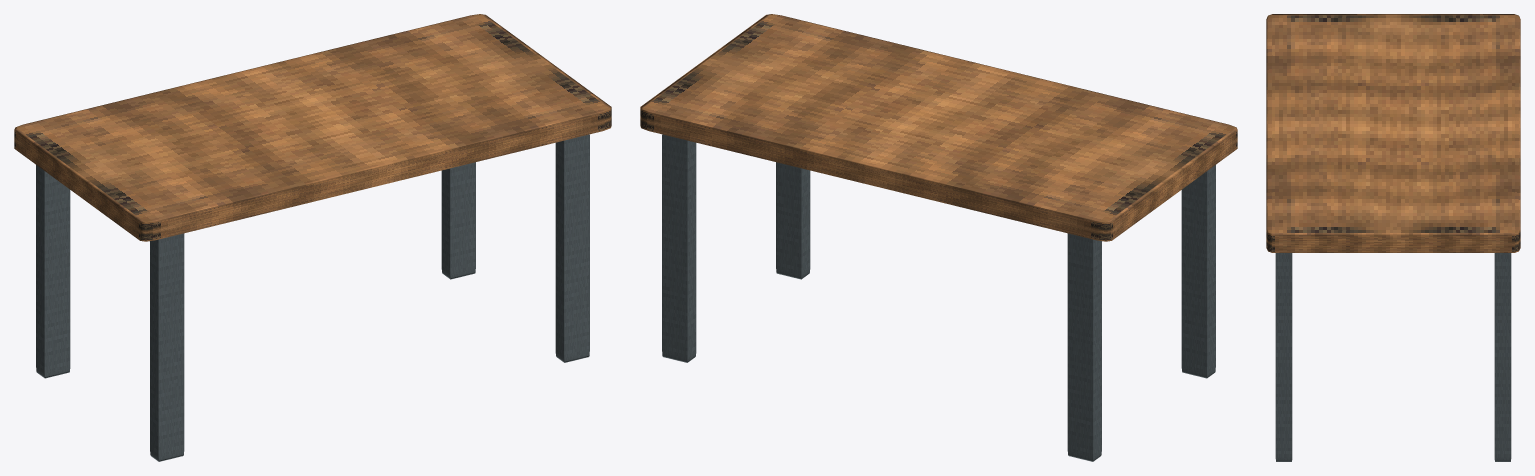
Rendered from desk.glb.
3 renders of one model, left to right at view 1: azimuth 30°, elevation 25°; view 2: azimuth 150°, elevation 25°; view 3: azimuth 270°, elevation 25°, orthographic. The views are drawn at different scales.
Parts seen in each view (by area): view 1: top, leg (×4); view 2: top, leg (×4); view 3: top, leg (×2).
Part boxes in pixels (x1=…): top: x1=14, y1=14, x2=611, y2=241; leg (×4): x1=36, y1=134, x2=589, y2=461; top: x1=640, y1=14, x2=1237, y2=241; leg (×4): x1=662, y1=134, x2=1215, y2=461; top: x1=1266, y1=14, x2=1520, y2=252; leg (×2): x1=1275, y1=253, x2=1511, y2=461.
Bounding box in the file's own units: 1.5 × 0.75 × 0.73.
Materials: 2 (2 with a texture image).
